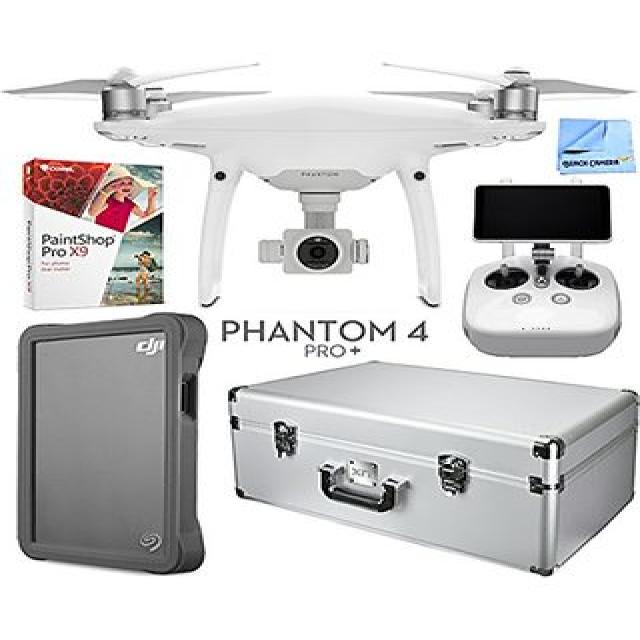drone: (8, 48, 624, 221)
